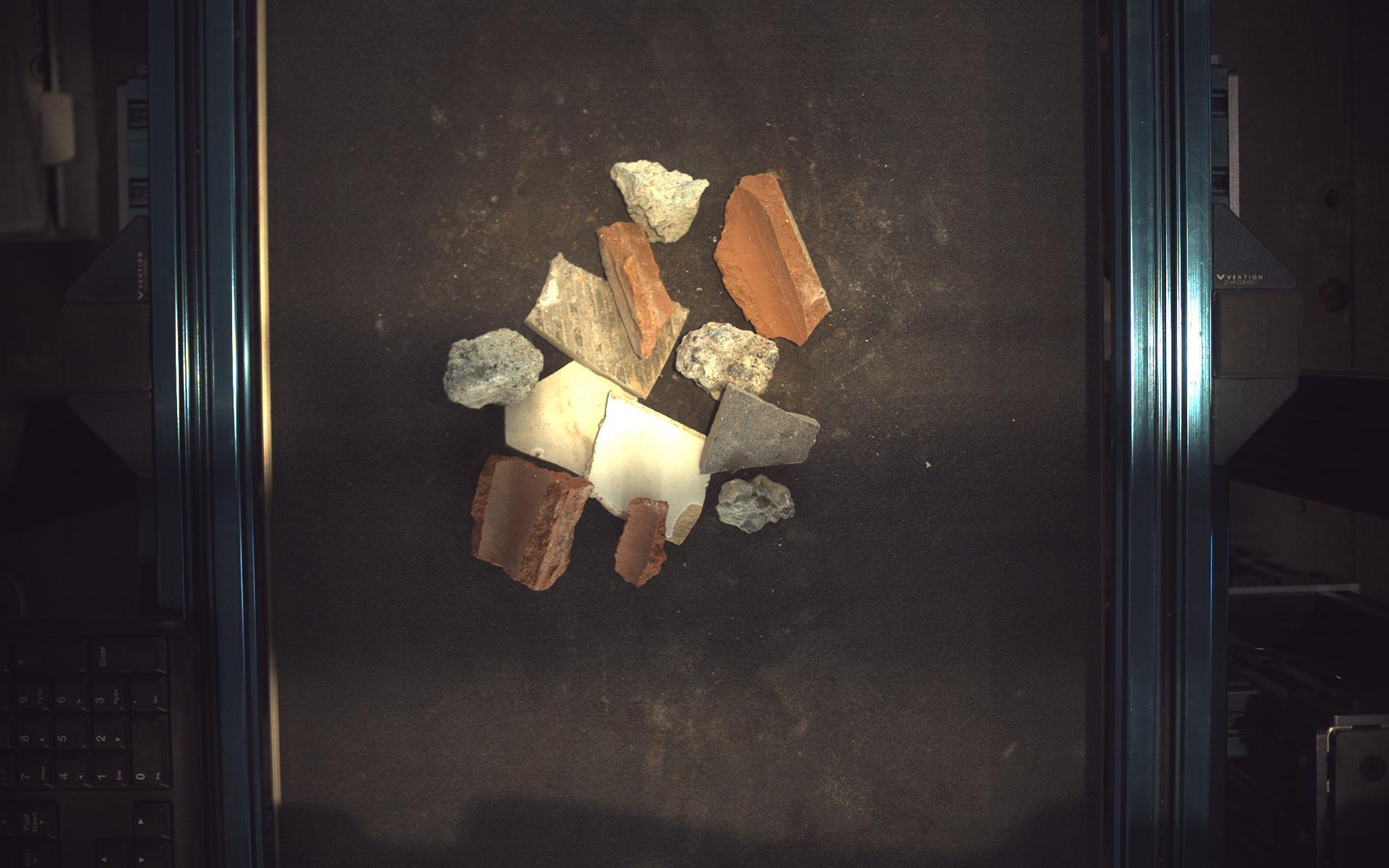brick: (715, 171, 832, 345), (472, 456, 593, 591), (598, 221, 676, 359), (616, 498, 669, 587)
concrete: (611, 159, 710, 242), (676, 321, 780, 400), (443, 328, 544, 409), (717, 475, 797, 534)
tile: (525, 252, 689, 398), (588, 396, 712, 545), (506, 361, 638, 477), (702, 384, 821, 474)
